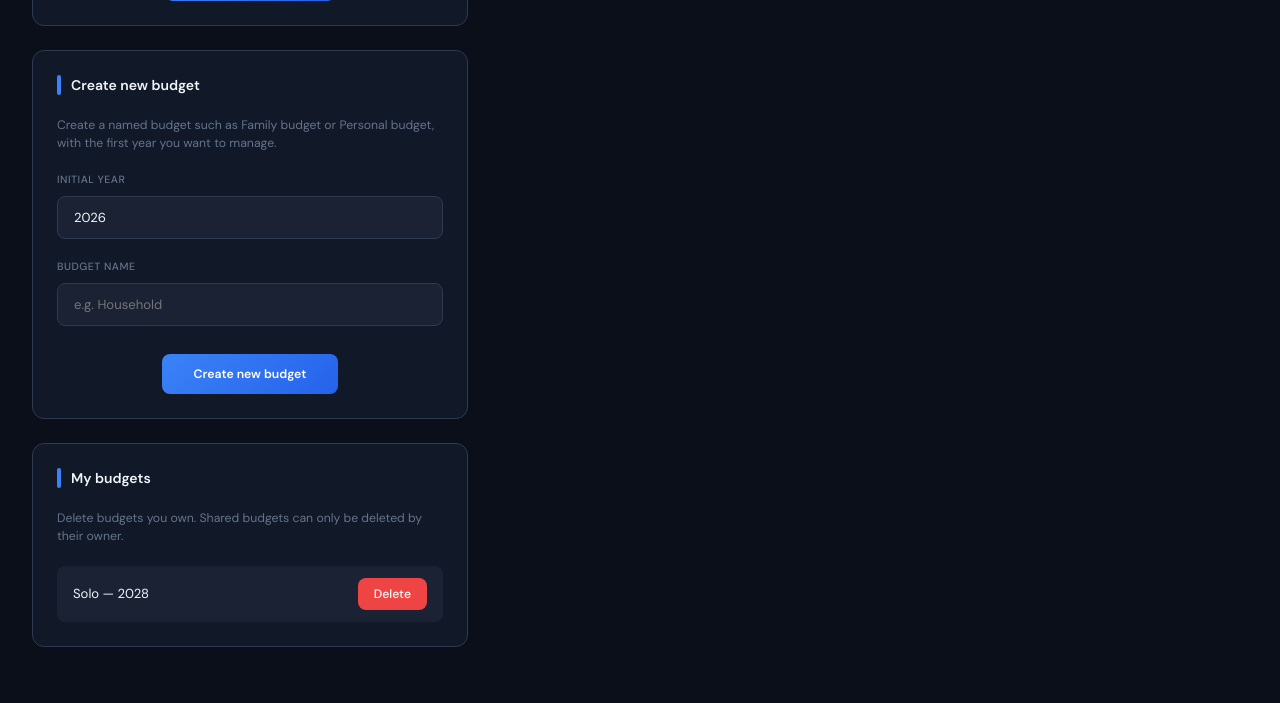
Test: budget deletion settings › warns when deleting the last owned budget
(page scrolled)
Click the button "Delete": point(392, 594) [358,578,427,610]
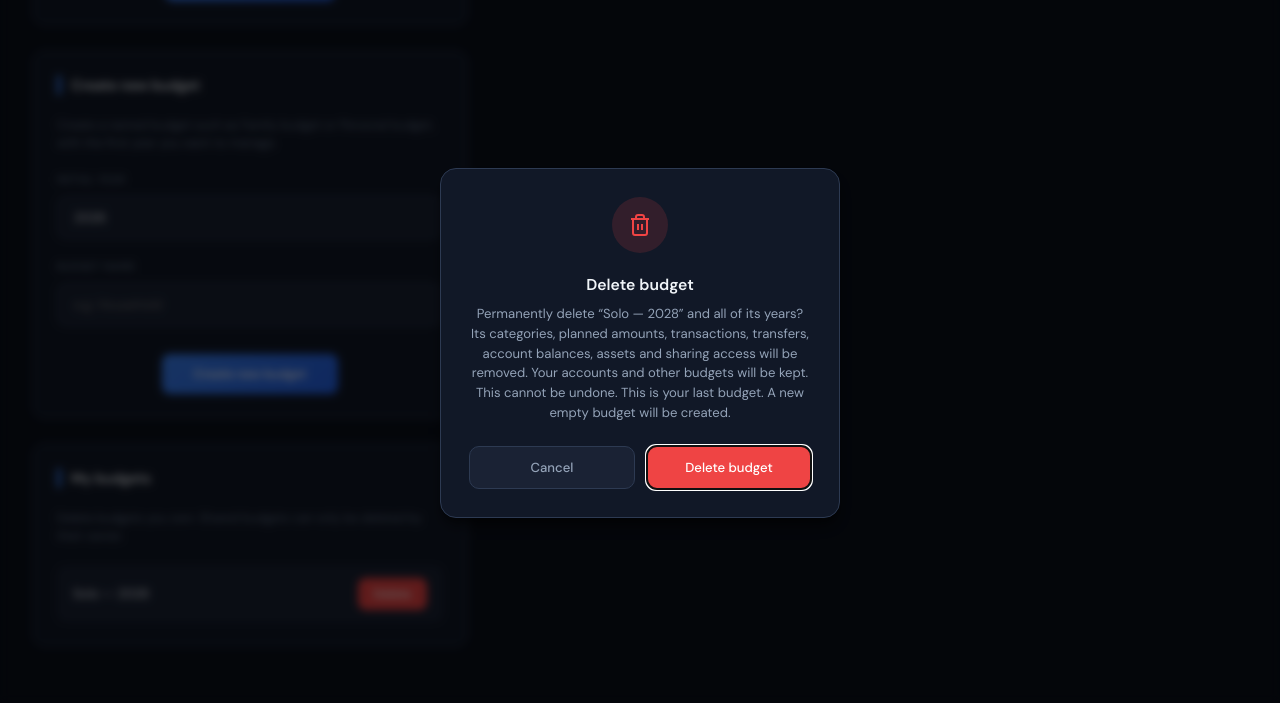
Result: the dialog shows "This is your last budget. A new empty budget will be created." at [471,305,809,421]
